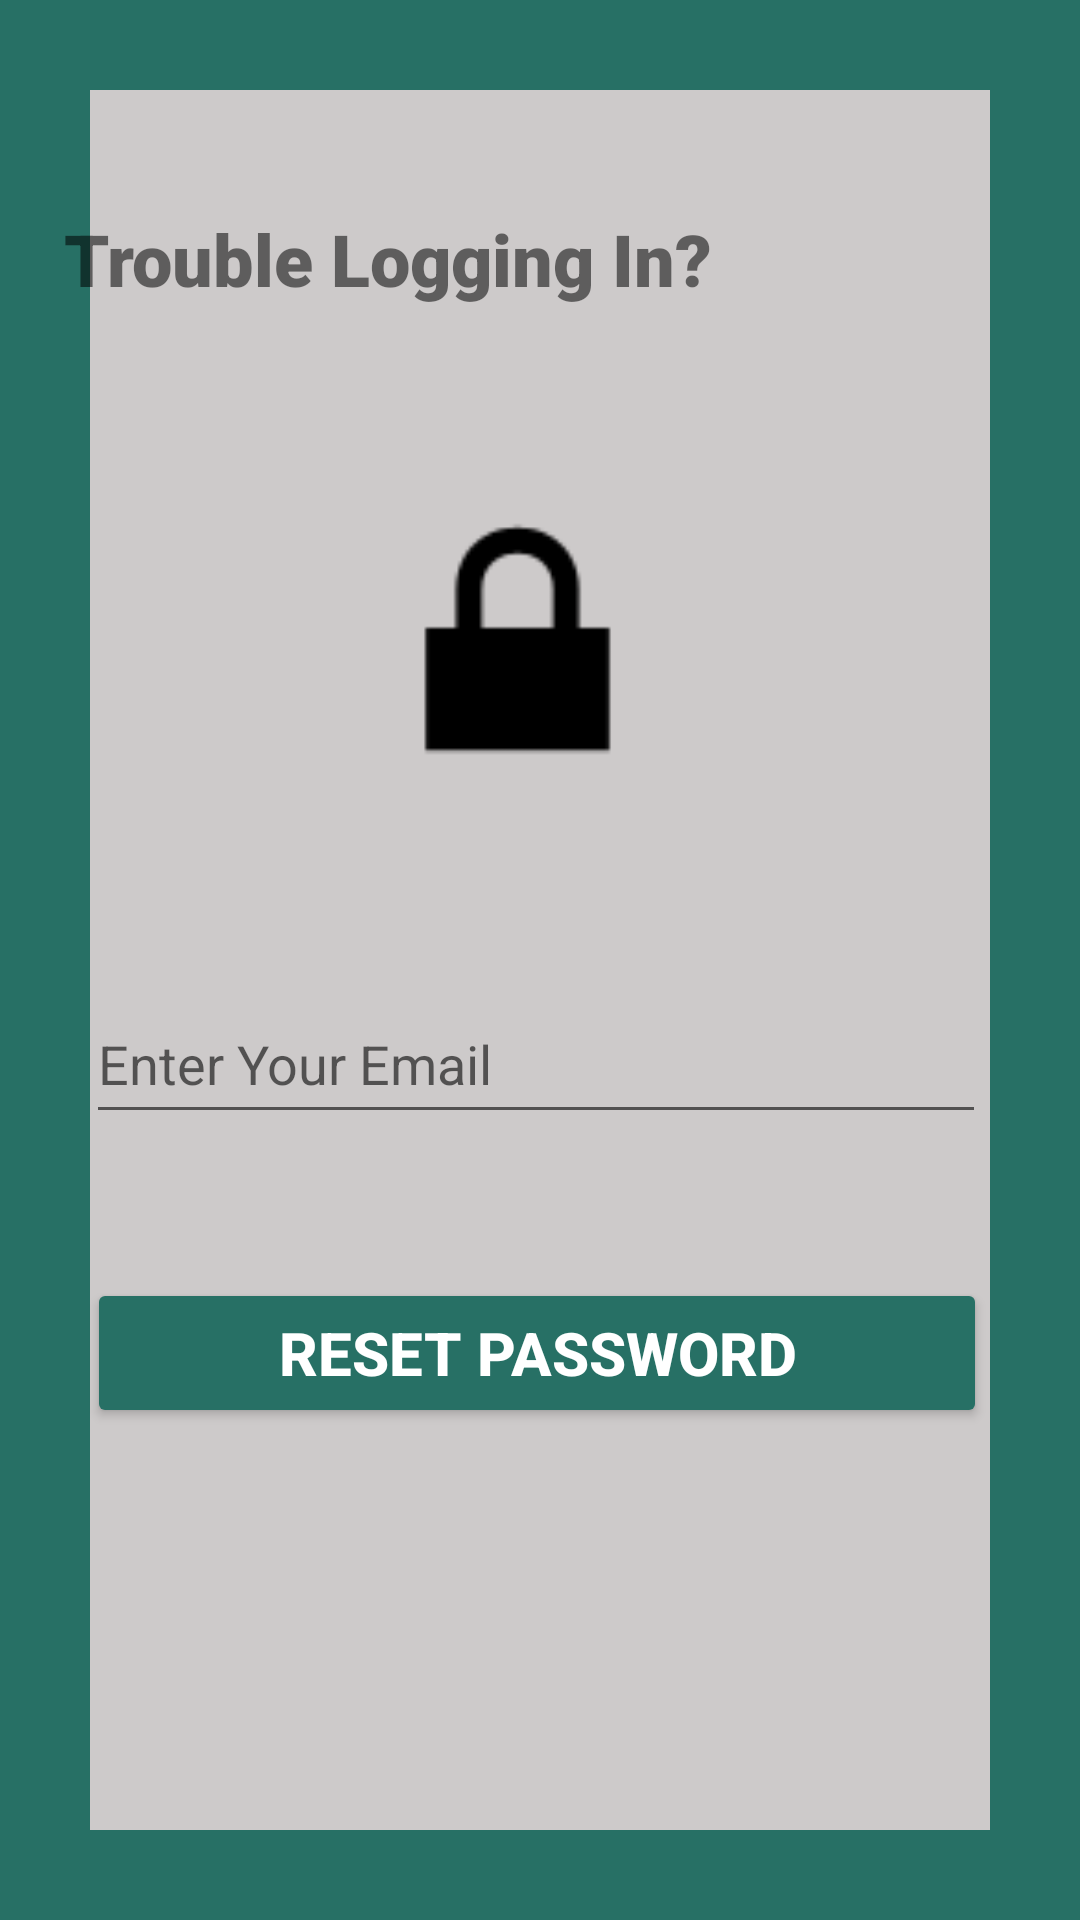

Icons on this 1080x1920 Android screen, each with the point to tap as (x=x, y=y):
lock: (x=517, y=639)
